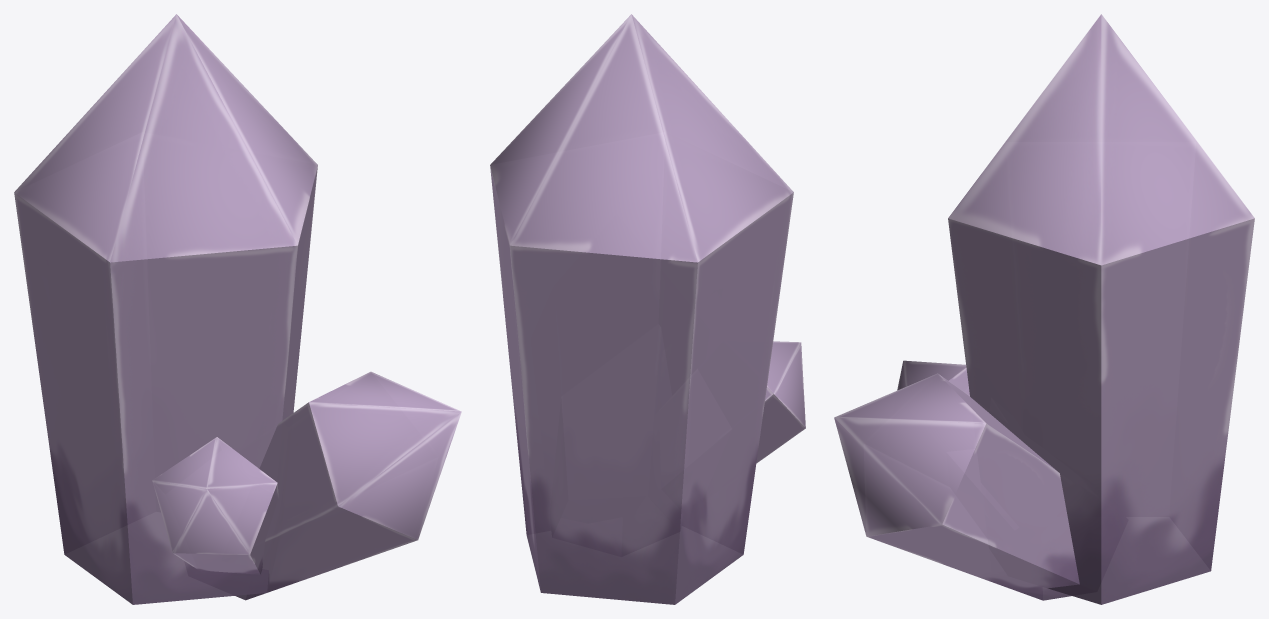
File: crystal_medium.fbx
3 views of the same model, side by side, from view 1: azimuth 30°, elevation 25°; view 2: azimuth 150°, elevation 25°; view 3: azimuth 270°, elevation 25° (orthographic).
Visible parts, largest first — view 1: crystal_medium; view 2: crystal_medium; view 3: crystal_medium.
Part boxes in pixels (x1=…): crystal_medium: x1=14, y1=14, x2=461, y2=604; crystal_medium: x1=490, y1=14, x2=805, y2=604; crystal_medium: x1=834, y1=14, x2=1254, y2=604.
Bounding box in the file's own units: 2.93 × 5.43 × 3.65.
1 material, 1 textured.
